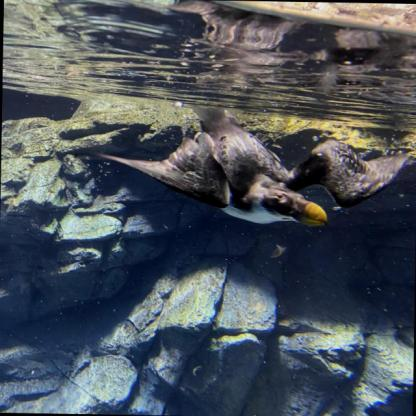puffin: (98, 102, 412, 229)
